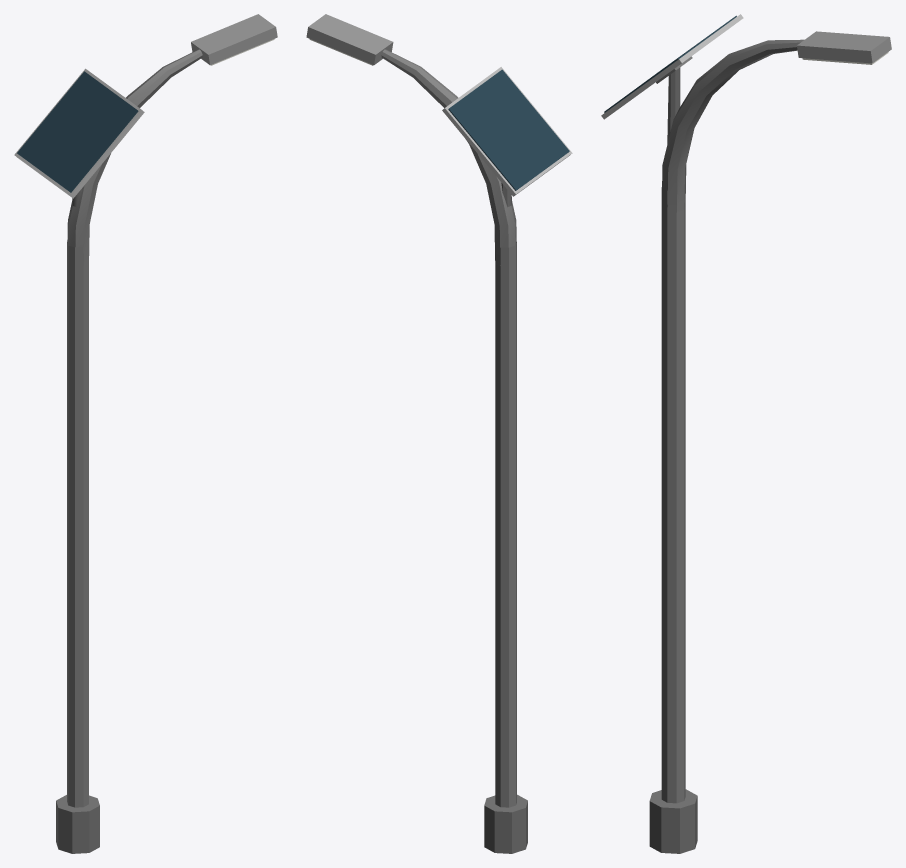
File: lighting.fbx
The picture shows the model from 3 angles, left to right: view 1: azimuth 30°, elevation 25°; view 2: azimuth 150°, elevation 25°; view 3: azimuth 330°, elevation 25°; orthographic projection. The views are drawn at different scales.
Parts seen in each view (by area): view 1: Cylinder_2_1; view 2: Cylinder_2_1; view 3: Cylinder_2_1.
Part boxes in pixels (x1,y1,x2,y2): Cylinder_2_1: (14, 14, 277, 853); Cylinder_2_1: (306, 14, 572, 853); Cylinder_2_1: (601, 14, 891, 853).
Bounding box in the file's own units: 205 × 669 × 88.06.
